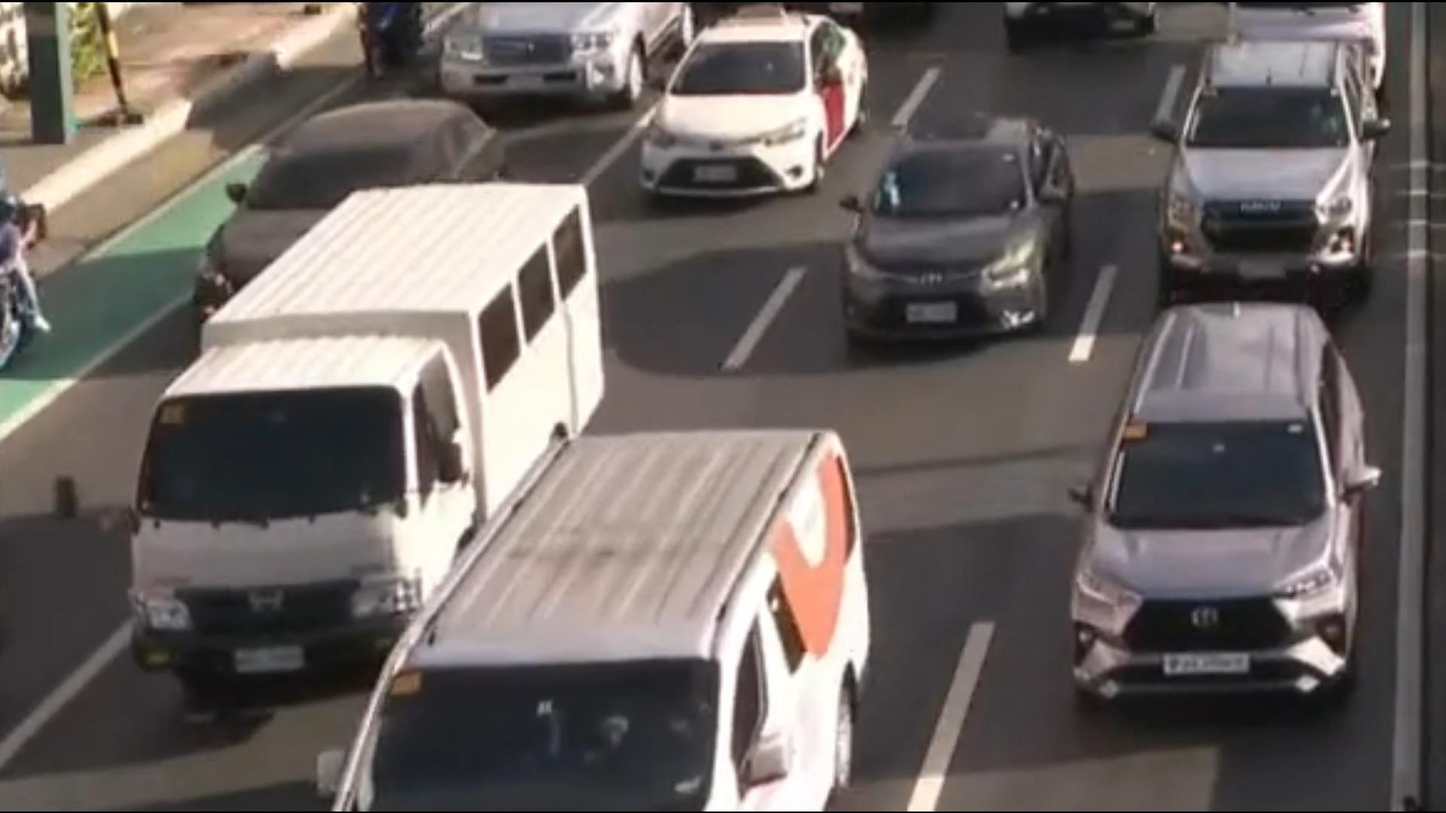Multicab: (97, 181, 612, 737)
SUV: (1048, 285, 1403, 714), (1132, 40, 1394, 321)
Sedan: (158, 74, 529, 331), (799, 108, 1106, 345), (623, 0, 893, 240)
Van: (283, 390, 906, 813)
